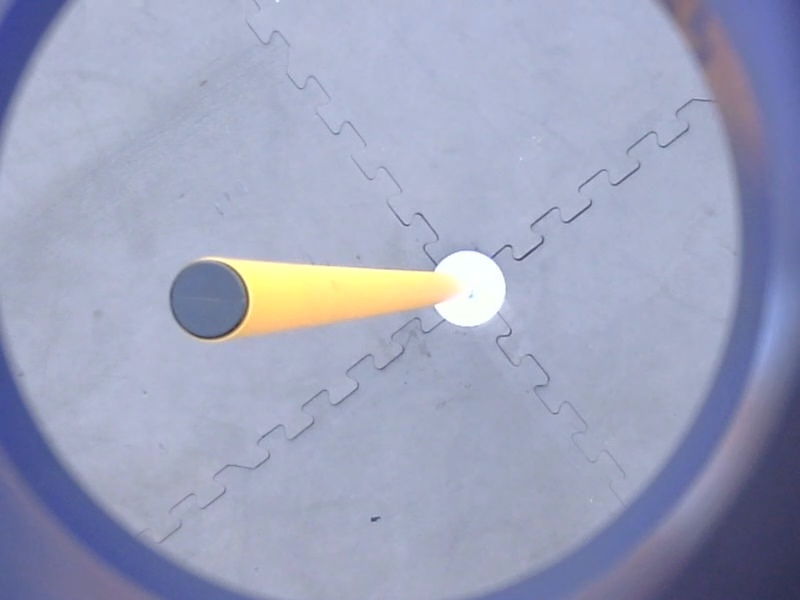tip: (161, 254, 256, 348)
